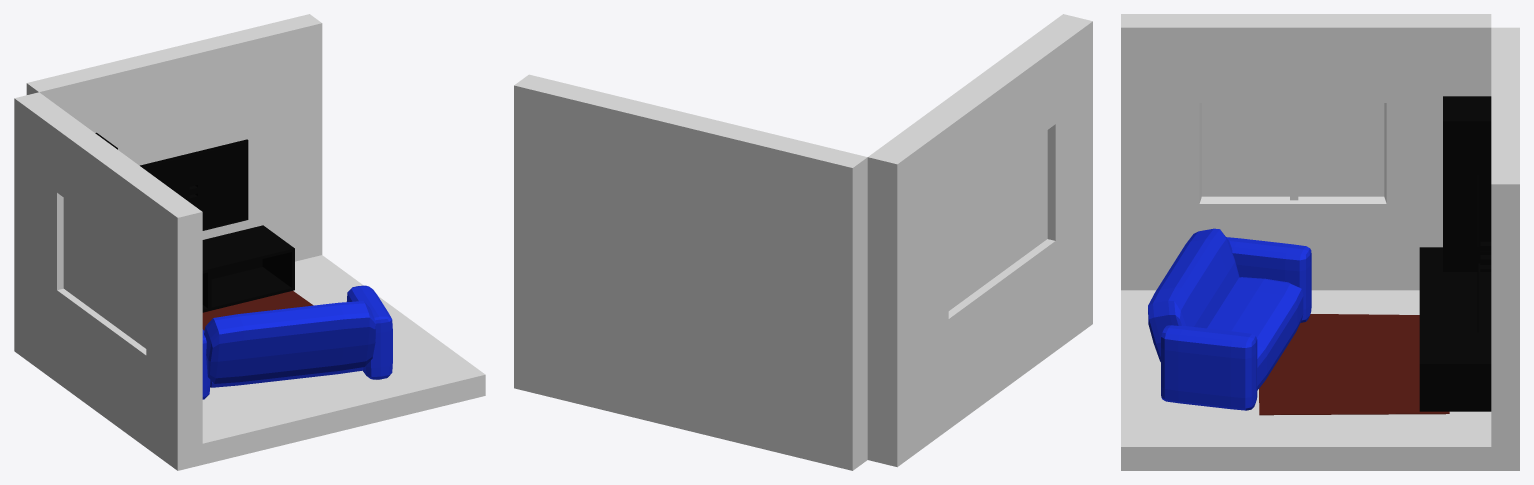
The model's file is isometricRoom.gltf.
3 renders of one model, left to right at view 1: azimuth 30°, elevation 25°; view 2: azimuth 150°, elevation 25°; view 3: azimuth 270°, elevation 25°, orthographic. The views are drawn at different scales.
Visible parts, largest first — view 1: Room, Cube.003, Cube.008, LowBoard, TV, Cube.002, Carpet, Cube; view 2: Room, Cube.008; view 3: Room, Cube.008, LowBoard, Carpet, Cube.002, Cube.003, Cube, Cube.001, TV.
Boxes of the visible parts, <box> form: Room: <box>14,14,485,470</box>; Cube.003: <box>204,301,375,383</box>; Cube.008: <box>63,198,146,348</box>; LowBoard: <box>95,132,294,312</box>; TV: <box>140,139,248,230</box>; Cube.002: <box>346,285,392,379</box>; Carpet: <box>202,291,313,330</box>; Cube: <box>204,330,363,387</box>; Room: <box>514,14,1092,470</box>; Cube.008: <box>948,130,1047,310</box>; Room: <box>1121,14,1519,470</box>; Cube.008: <box>1192,99,1394,209</box>; LowBoard: <box>1419,96,1491,411</box>; Carpet: <box>1259,314,1449,415</box>; Cube.002: <box>1161,325,1257,410</box>; Cube.003: <box>1148,228,1239,361</box>; Cube: <box>1207,277,1303,390</box>; Cube.001: <box>1226,237,1311,322</box>; TV: <box>1477,173,1491,335</box>.
Size of the model in its own units: 2.18 by 1.71 by 2.15.
